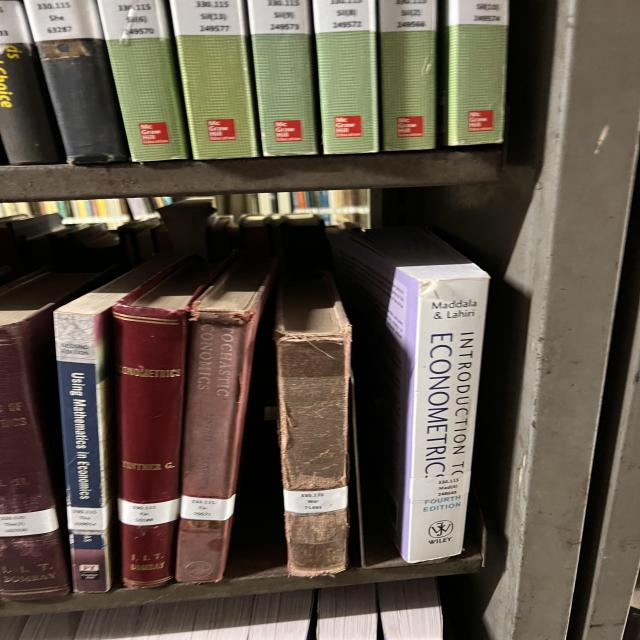Book: (328, 226, 490, 562), (53, 256, 180, 592), (113, 256, 222, 586), (0, 271, 105, 600), (175, 252, 277, 582), (273, 270, 352, 578), (25, 0, 128, 164), (98, 0, 190, 161), (170, 0, 260, 160), (247, 0, 318, 156), (313, 0, 380, 154), (442, 0, 508, 146), (378, 0, 437, 151), (377, 578, 443, 640), (317, 584, 378, 640), (190, 595, 253, 640), (132, 601, 198, 640), (73, 606, 140, 640), (275, 590, 313, 640), (18, 611, 82, 640), (212, 595, 253, 640), (248, 592, 282, 640), (0, 615, 28, 640)
Label: (25, 0, 103, 42), (97, 0, 170, 40), (170, 0, 245, 36), (247, 0, 310, 35), (313, 0, 375, 34), (380, 0, 437, 32), (283, 486, 348, 514), (410, 472, 470, 501), (0, 508, 58, 538), (118, 499, 180, 526), (448, 0, 508, 25), (0, 0, 33, 44), (180, 495, 235, 521), (67, 506, 108, 530)
